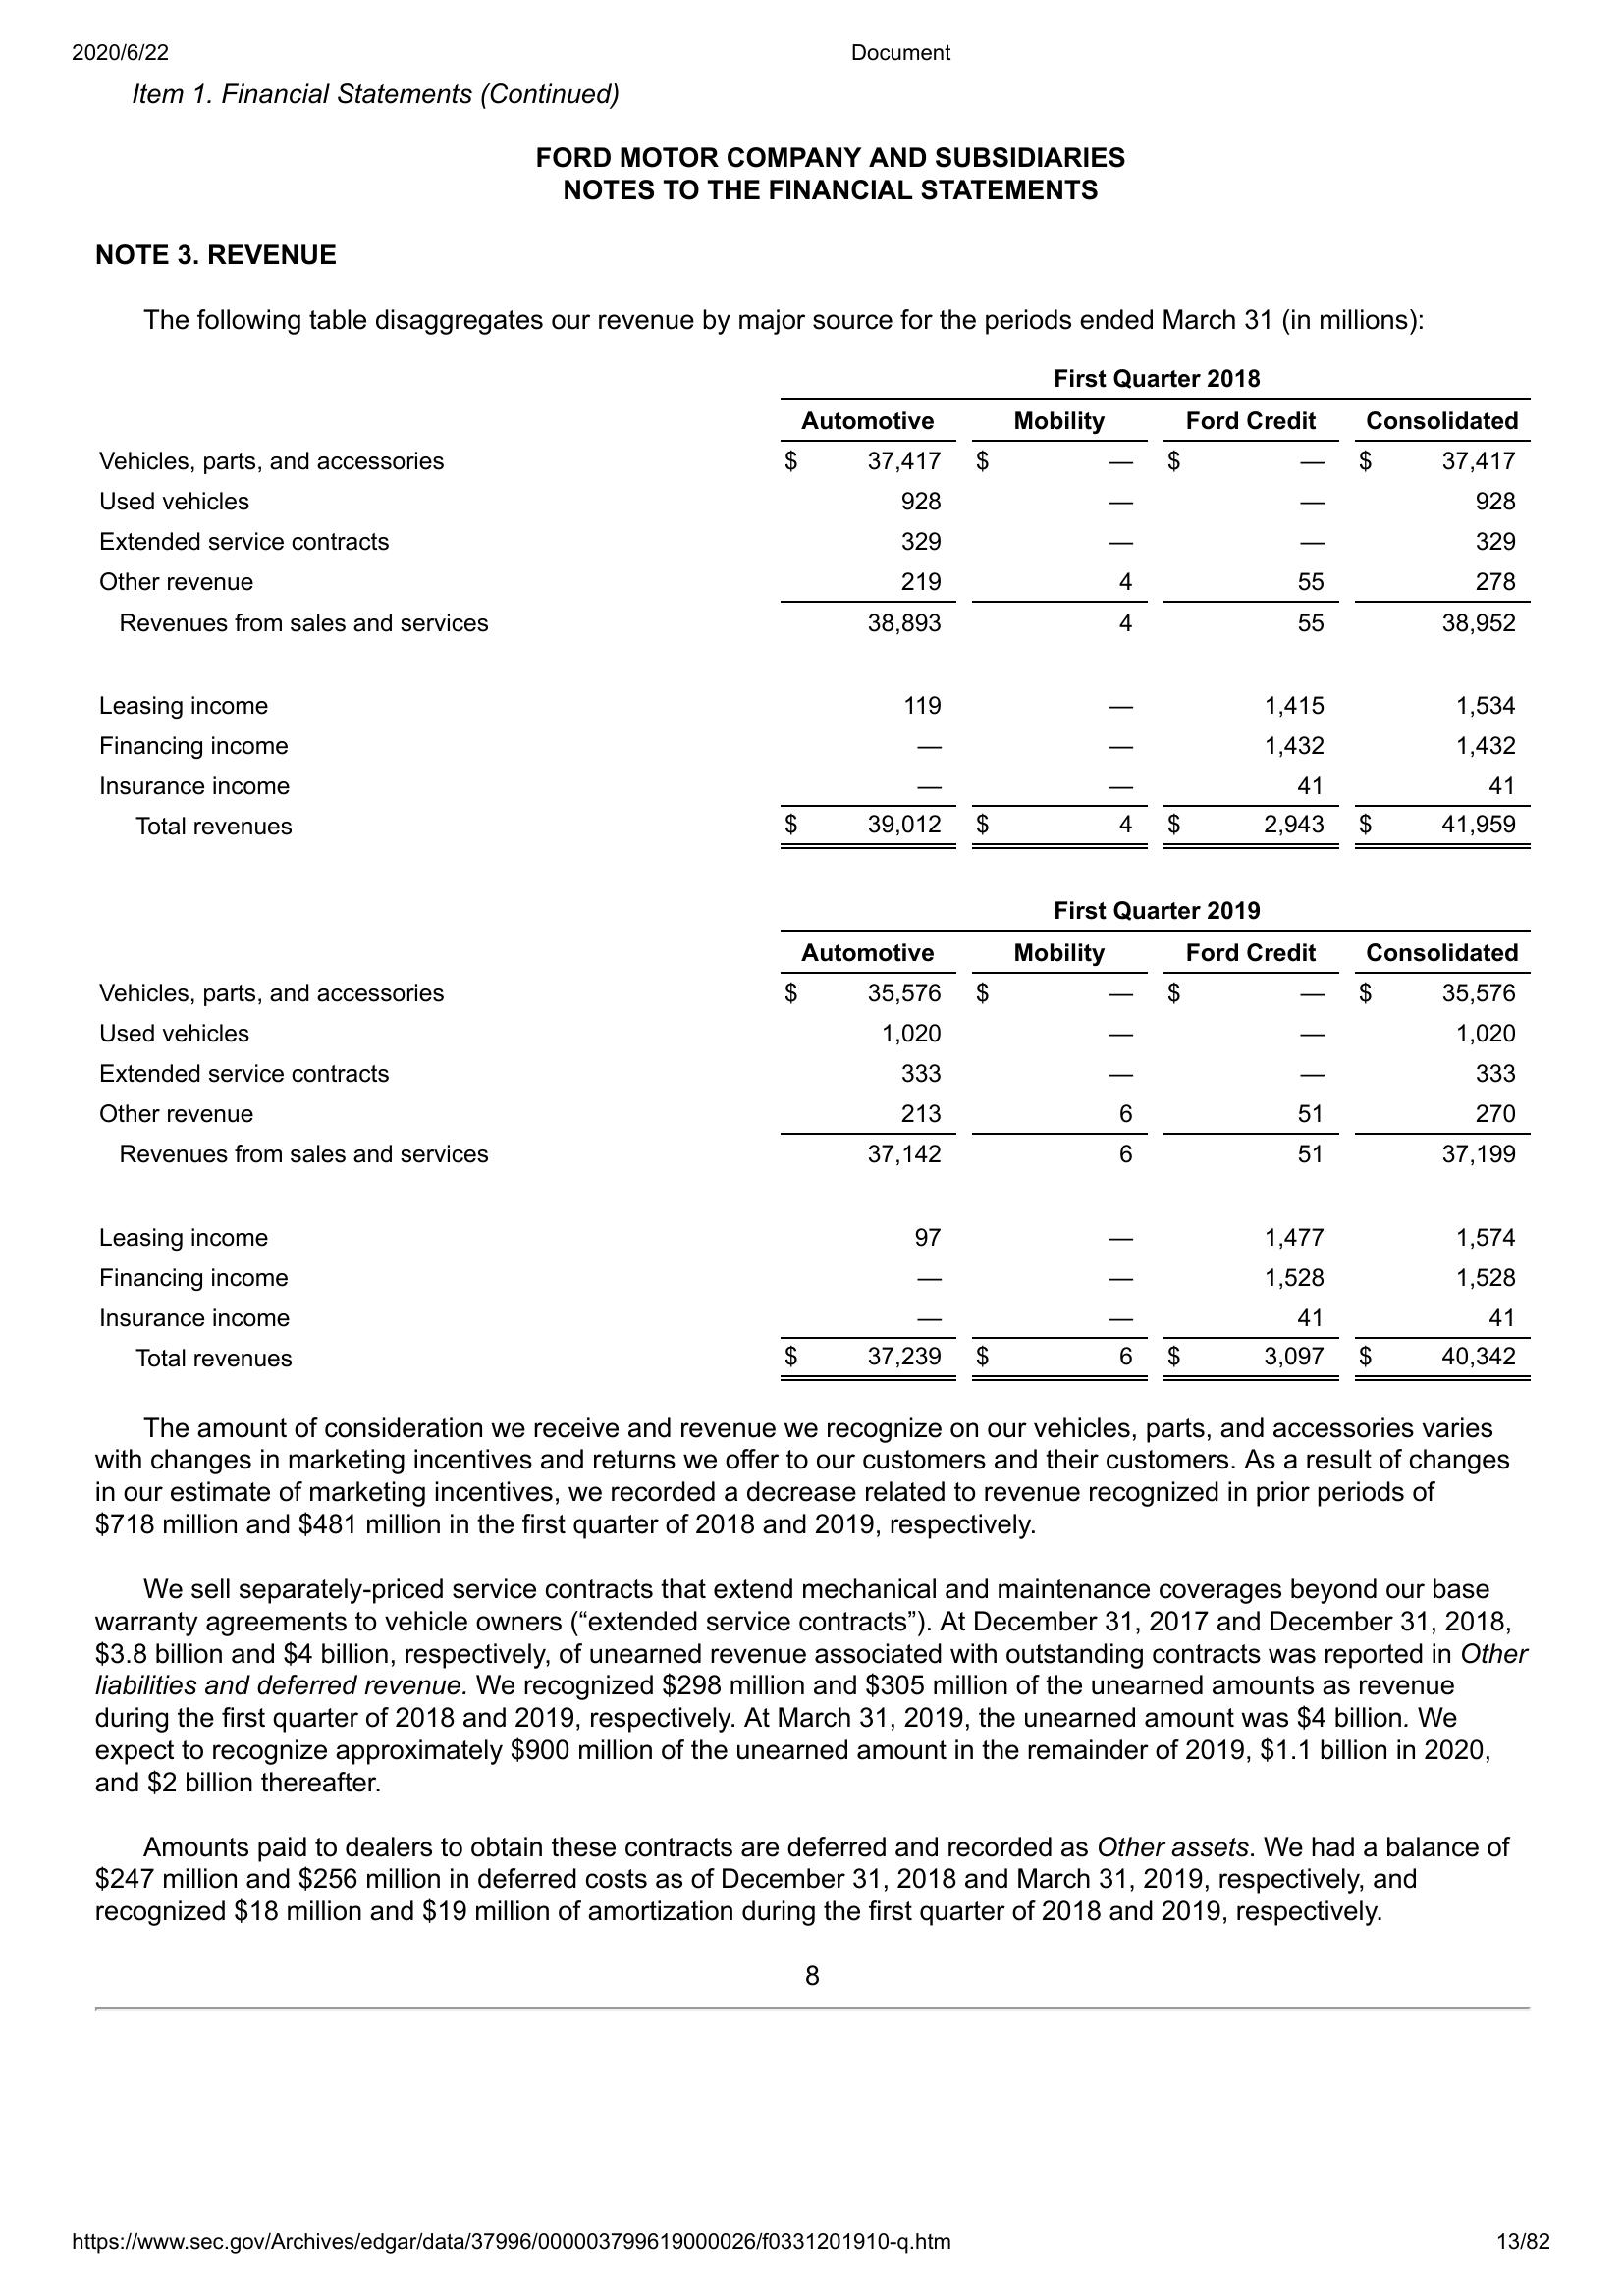table: (88, 353, 1542, 1388)
